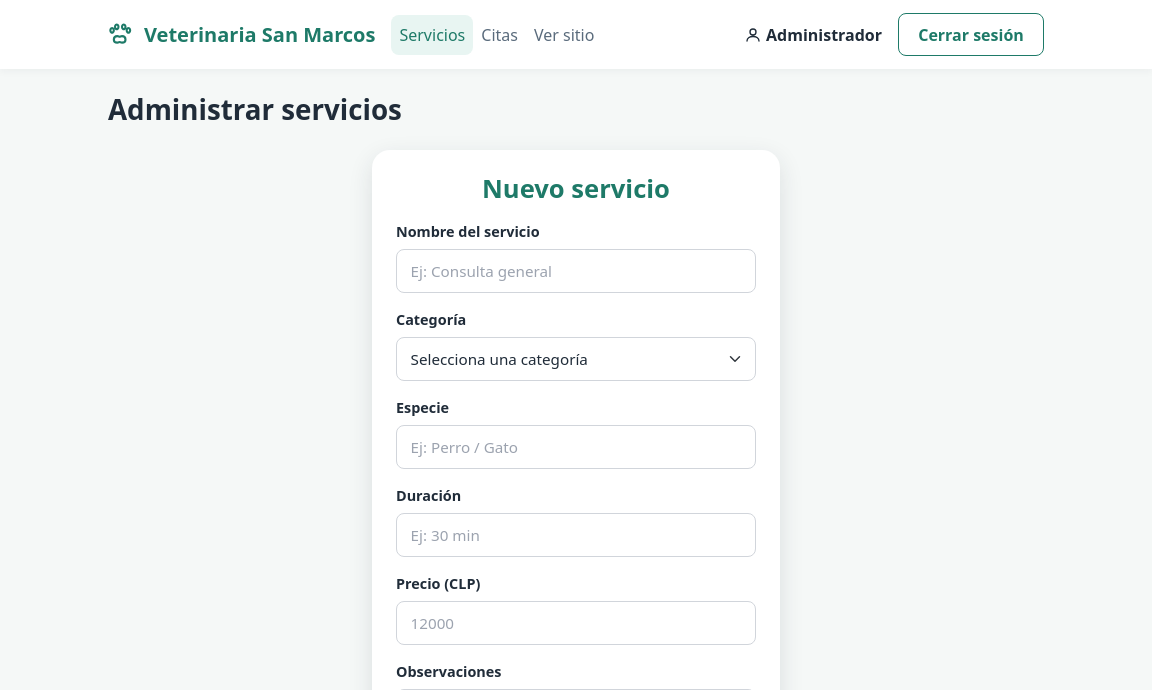
Test: Página AdminServicios › rechaza precio 0 o negativo
The width and height of the screenshot is (1152, 690).
Type "-5" into the number field labelled "Precio (CLP)" at (576, 623), box [396, 601, 756, 645]
(page scrolled)
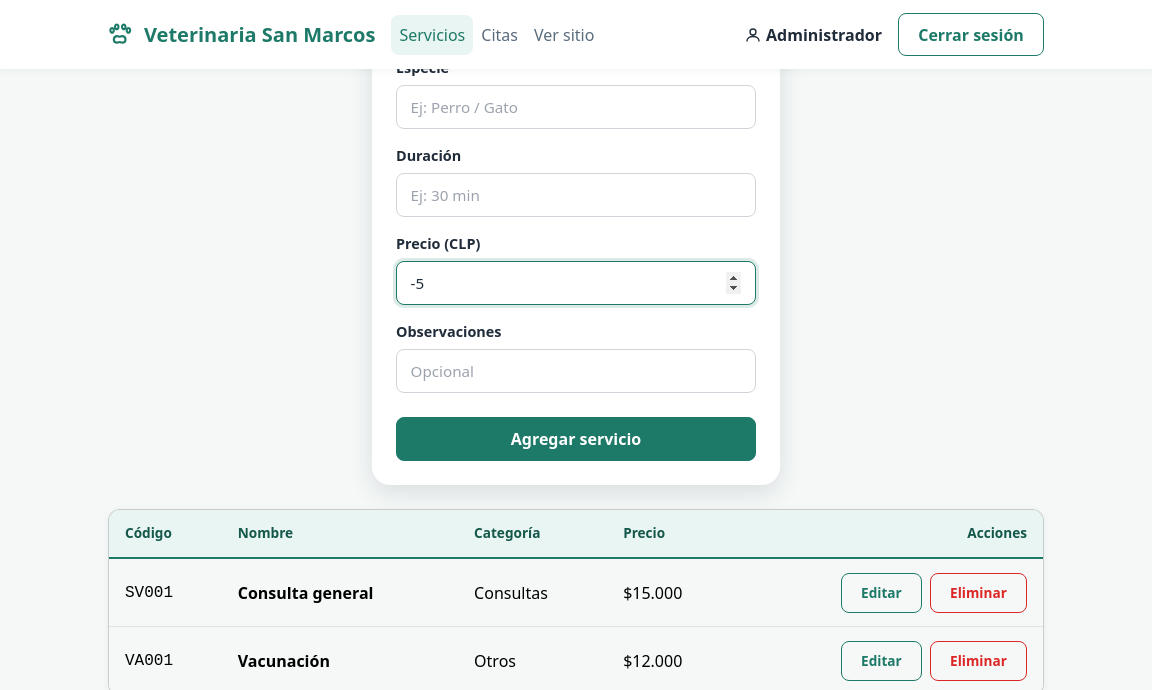
Click the button "Agregar servicio" at (576, 439), box [396, 417, 756, 461]
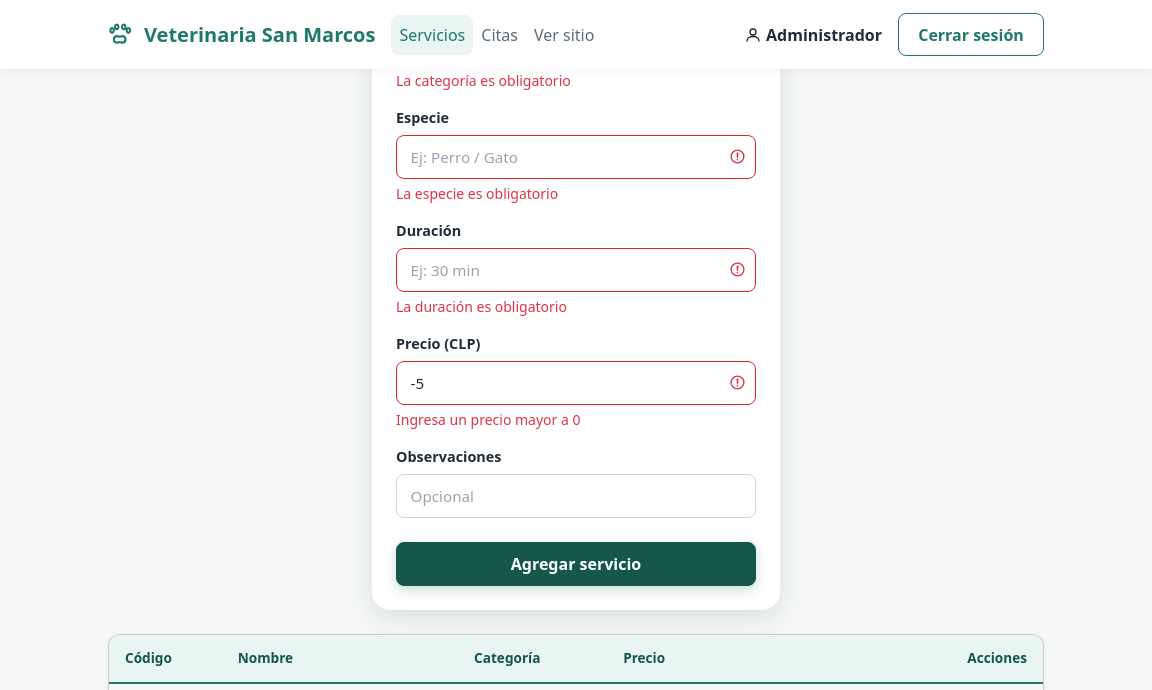
Result: the text "Ingresa un precio mayor a 0" is shown at [396, 410, 580, 429]
